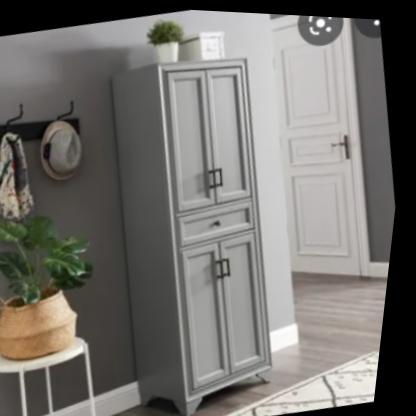Cupboard: (76, 38, 319, 416)
